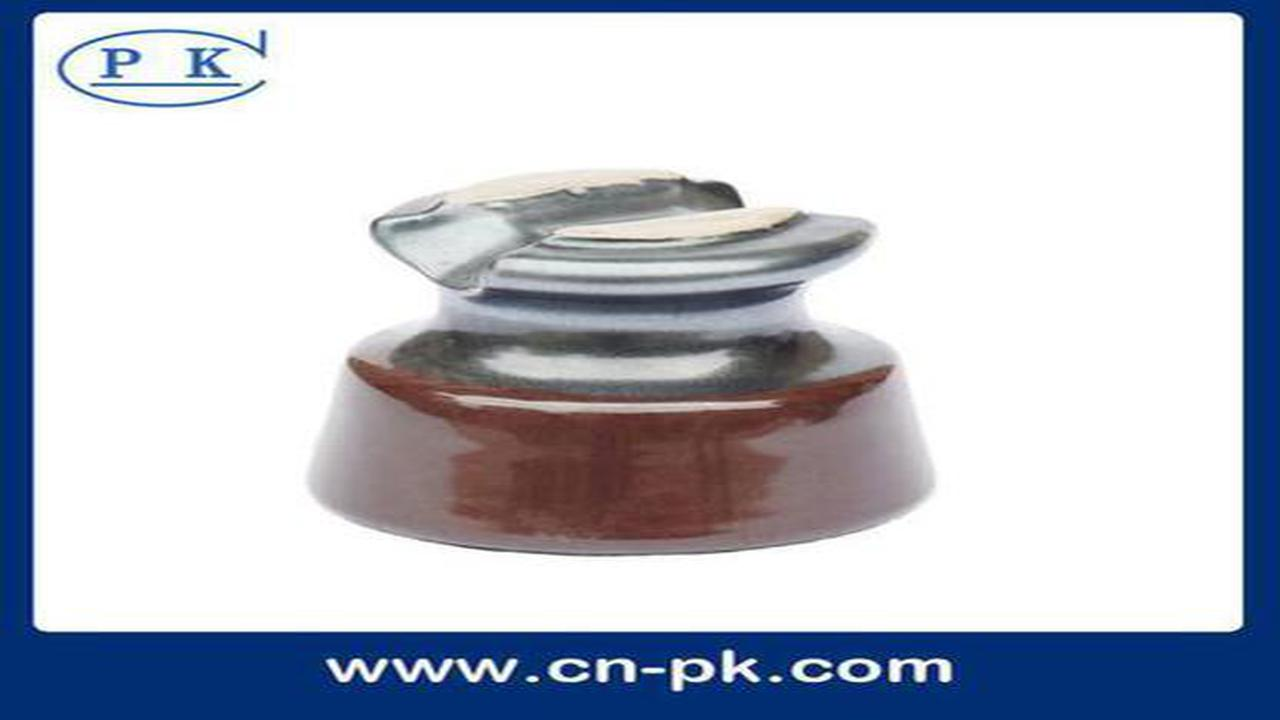insulator_pin: (295, 159, 942, 556)
